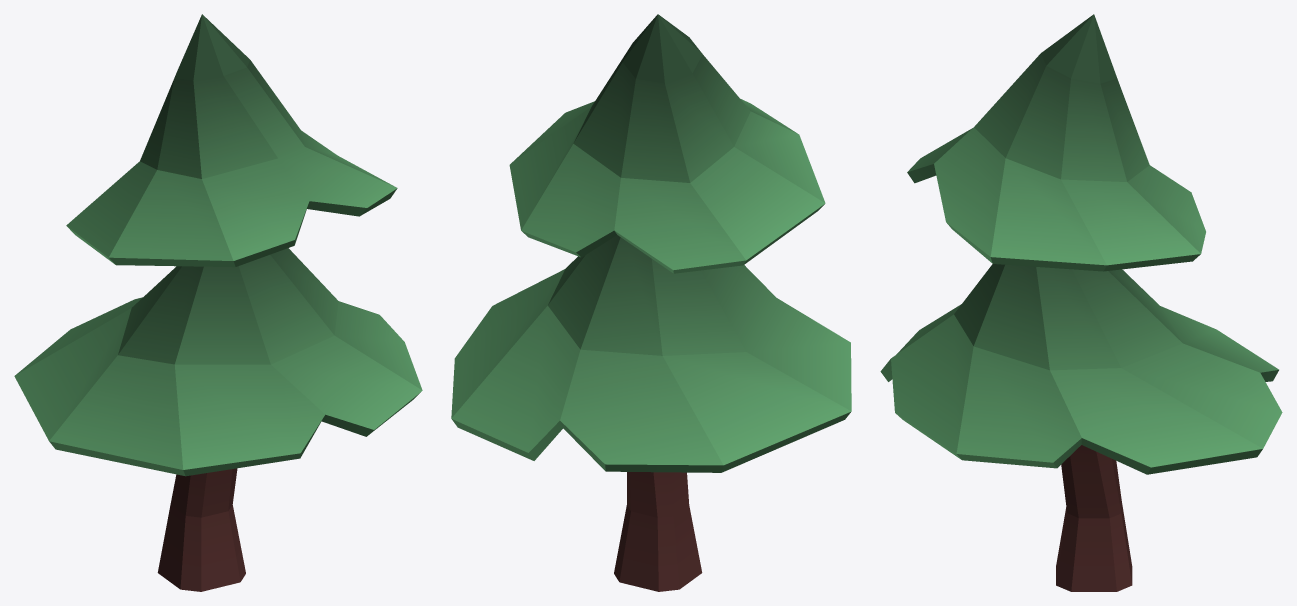
Rendered from DarkPine7.fbx.
3 views of the same model, side by side, from view 1: azimuth 30°, elevation 25°; view 2: azimuth 150°, elevation 25°; view 3: azimuth 270°, elevation 25° (orthographic).
Parts seen in each view (by area): view 1: DarkPine7; view 2: DarkPine7; view 3: DarkPine7.
Part boxes in pixels (x1=…): DarkPine7: x1=14, y1=14, x2=422, y2=591; DarkPine7: x1=451, y1=14, x2=851, y2=591; DarkPine7: x1=880, y1=14, x2=1282, y2=591.
Size of the model in its own units: 308 by 463 by 300.
